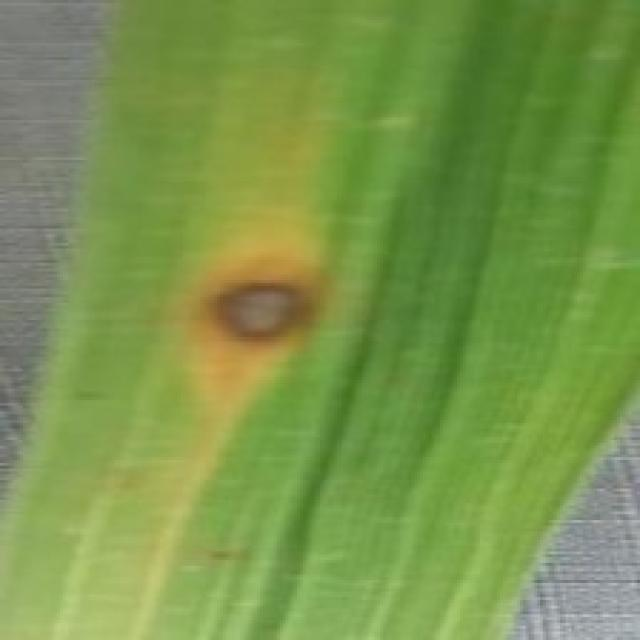Rice___Brown_Spot: (1, 1, 637, 637)
